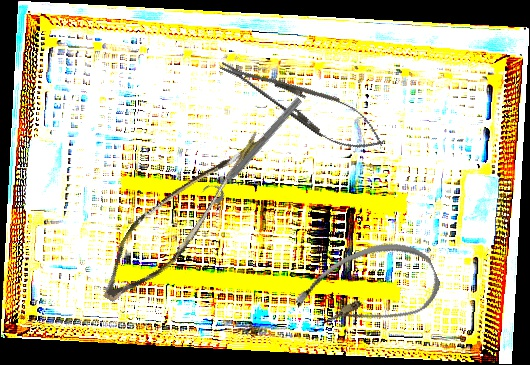Cannula: (287, 227, 448, 355)
Fixation Ring: (199, 89, 306, 206)
Micro Scissor: (91, 99, 269, 325)
Needle Holder: (211, 44, 393, 164)
